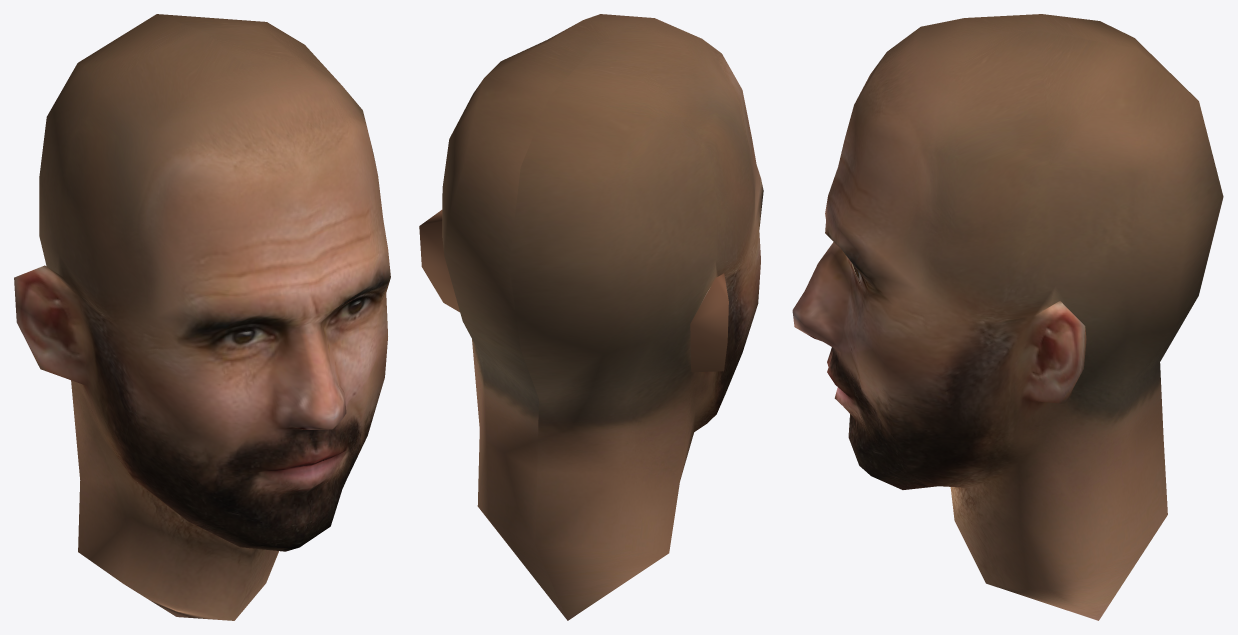
Rendered from GDAL_head.fbx.
3 views of the same model, side by side, from view 1: azimuth 30°, elevation 25°; view 2: azimuth 150°, elevation 25°; view 3: azimuth 270°, elevation 25° (orthographic). The views are drawn at different scales.
Parts seen in each view (by area): view 1: head; view 2: head; view 3: head.
Boxes of the visible parts, box(x1,y1,x2,y2) form: head: box(14, 14, 390, 620); head: box(419, 14, 763, 620); head: box(792, 14, 1223, 620).
Bounding box in the file's own units: 19.91 × 34.04 × 22.54.
